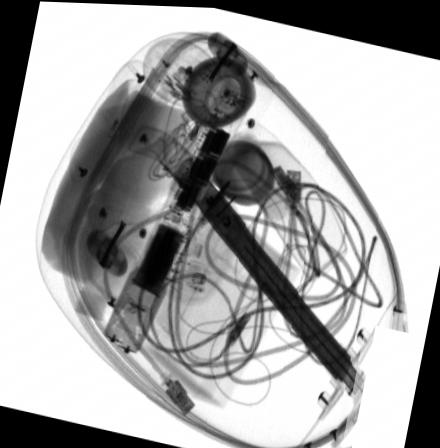Baton: (101, 80, 251, 350)
